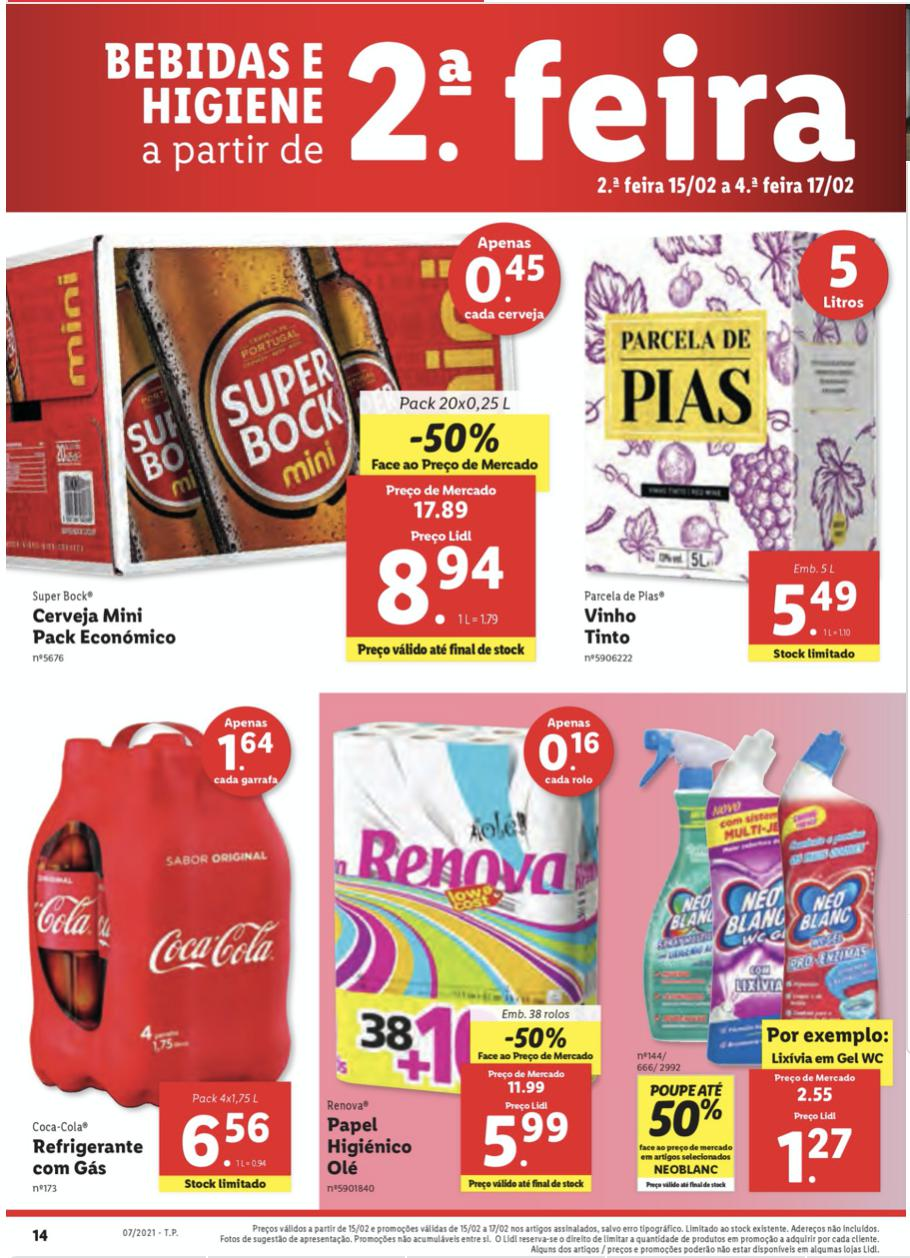name: (31, 601, 187, 650), (319, 1119, 430, 1176), (33, 1133, 148, 1180), (580, 606, 645, 650)
price: (378, 526, 512, 636), (770, 1109, 862, 1194), (178, 1105, 280, 1175), (765, 578, 862, 644)
product: (19, 236, 569, 681), (569, 217, 892, 681), (322, 701, 626, 1190), (15, 698, 309, 1201), (626, 698, 900, 1194)
promotion: (409, 414, 505, 467), (642, 1094, 728, 1144), (500, 1020, 572, 1056)
